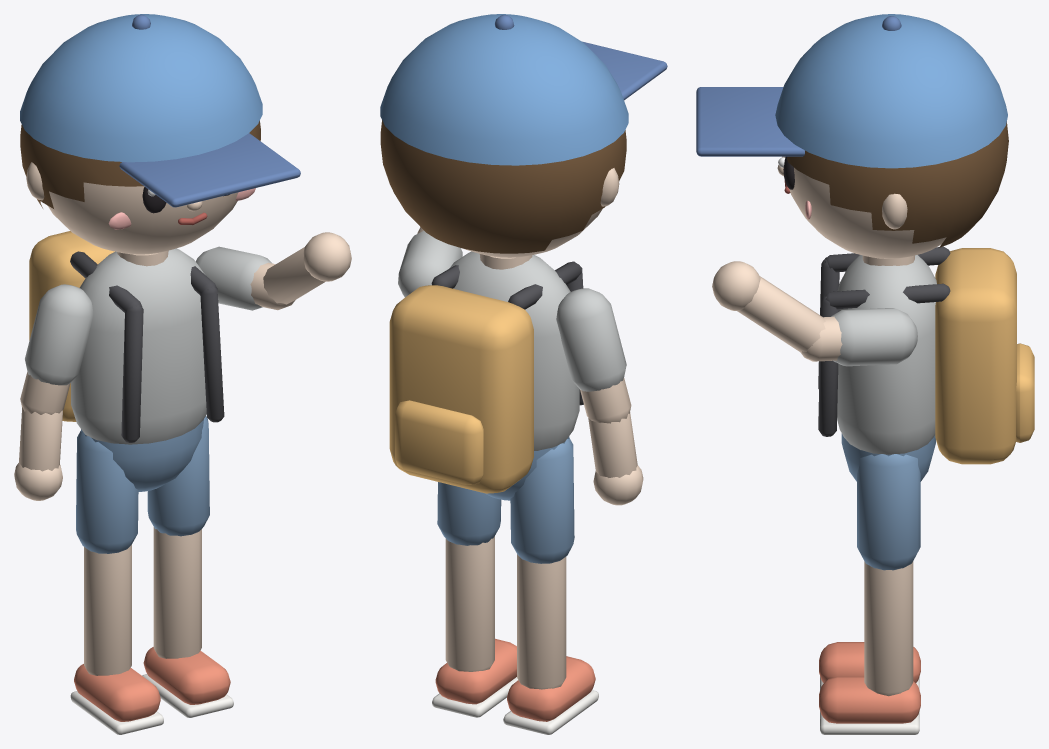
File: Customer_Kid.fbx
3 renders of one model, left to right at view 1: azimuth 30°, elevation 25°; view 2: azimuth 150°, elevation 25°; view 3: azimuth 270°, elevation 25°, orthographic. The views are drawn at different scales.
Visible parts, largest first — view 1: Head.004, Body.004, Leg_L.004, Leg_R.004, Arm_L.004, Arm_R.004; view 2: Head.004, Body.004, Leg_L.004, Leg_R.004, Arm_L.004, Arm_R.004; view 3: Head.004, Body.004, Leg_R.004, Arm_R.004, Leg_L.004.
Boxes of the visible parts, x1,y1,x2,y2 form: Head.004: (20, 14, 300, 254); Body.004: (29, 231, 224, 491); Leg_L.004: (70, 431, 163, 734); Leg_R.004: (142, 416, 233, 717); Arm_L.004: (14, 284, 93, 500); Arm_R.004: (196, 232, 351, 310); Head.004: (380, 14, 667, 257); Body.004: (389, 251, 583, 500); Leg_L.004: (503, 438, 598, 734); Leg_R.004: (432, 482, 517, 717); Arm_L.004: (556, 288, 643, 505); Arm_R.004: (398, 227, 462, 297); Head.004: (696, 14, 1008, 258); Body.004: (818, 246, 1034, 481); Leg_R.004: (819, 454, 920, 734); Arm_R.004: (712, 261, 917, 366); Leg_L.004: (819, 642, 920, 690).
Size of the model in its own units: 0.4151 by 1.05 by 0.464.
